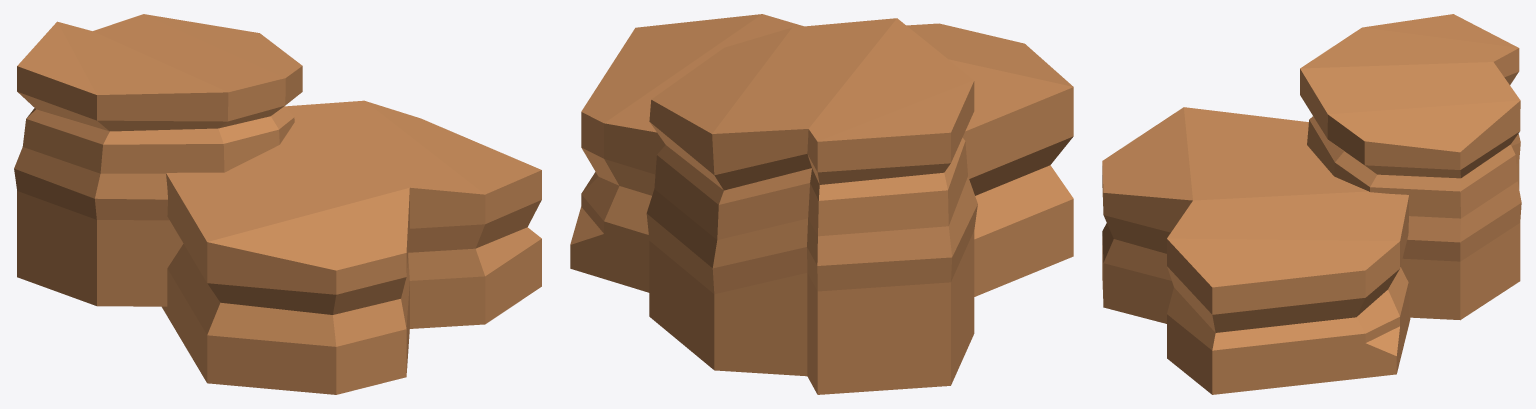
Rendered from SandRocks20_LOD1.fbx.
The picture shows the model from 3 angles, left to right: view 1: azimuth 30°, elevation 25°; view 2: azimuth 150°, elevation 25°; view 3: azimuth 270°, elevation 25°; orthographic projection. The views are drawn at different scales.
Parts seen in each view (by area): view 1: Plane.181; view 2: Plane.181; view 3: Plane.181.
Boxes of the visible parts, <box> form: Plane.181: <box>14,14,541,394</box>; Plane.181: <box>570,14,1073,394</box>; Plane.181: <box>1102,14,1521,394</box>.
Size of the model in its own units: 37.89 by 20.5 by 37.68.
